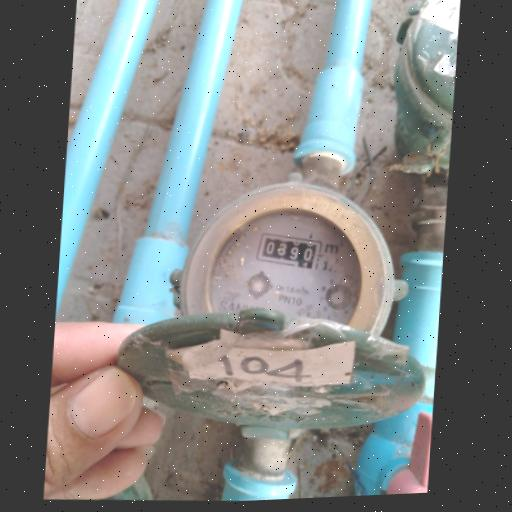0: (298, 241, 317, 269), (262, 236, 278, 258)
3: (273, 237, 290, 260)
9: (286, 239, 303, 262)
border_water_meter_number: (254, 229, 323, 273)
